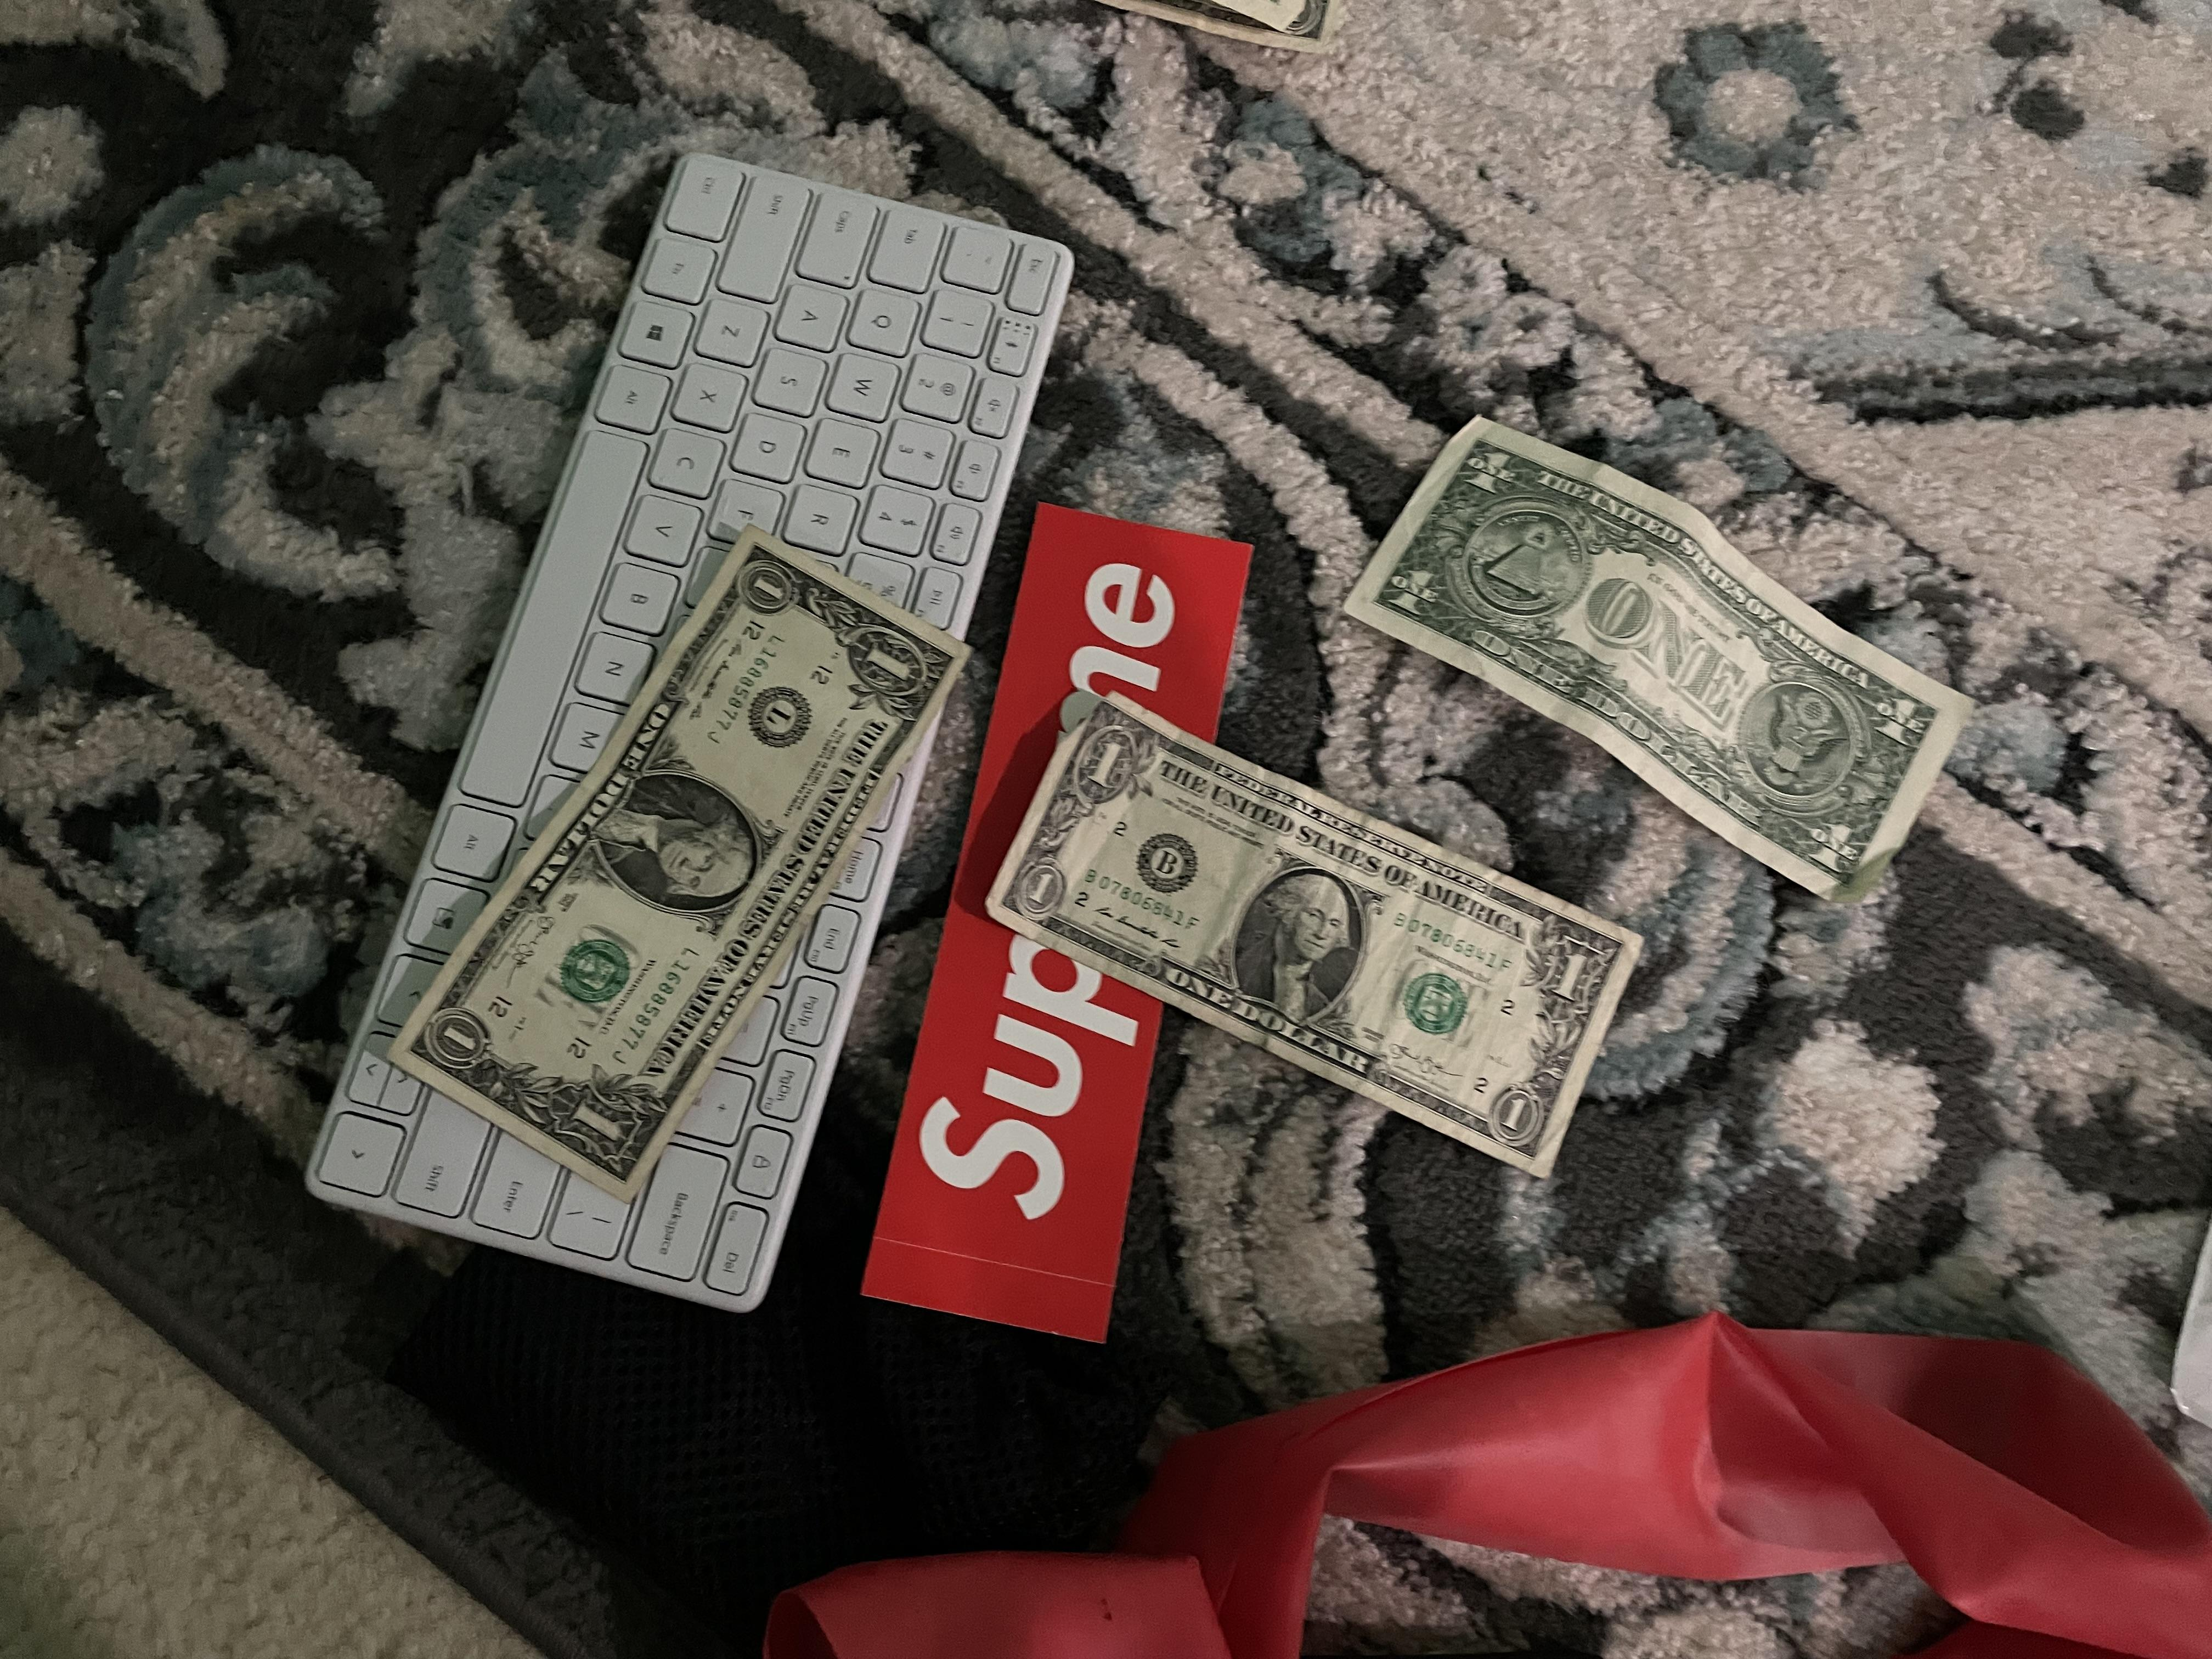OneBill: (383, 528, 989, 1197), (989, 697, 1646, 1199), (1339, 411, 1982, 913)
